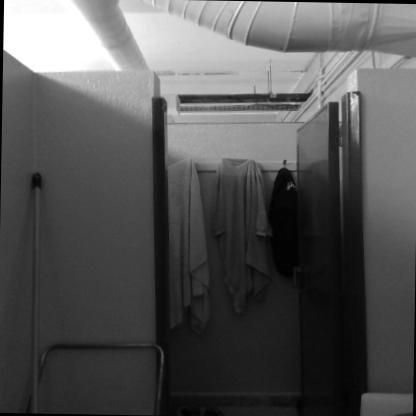open: (119, 76, 369, 416)
